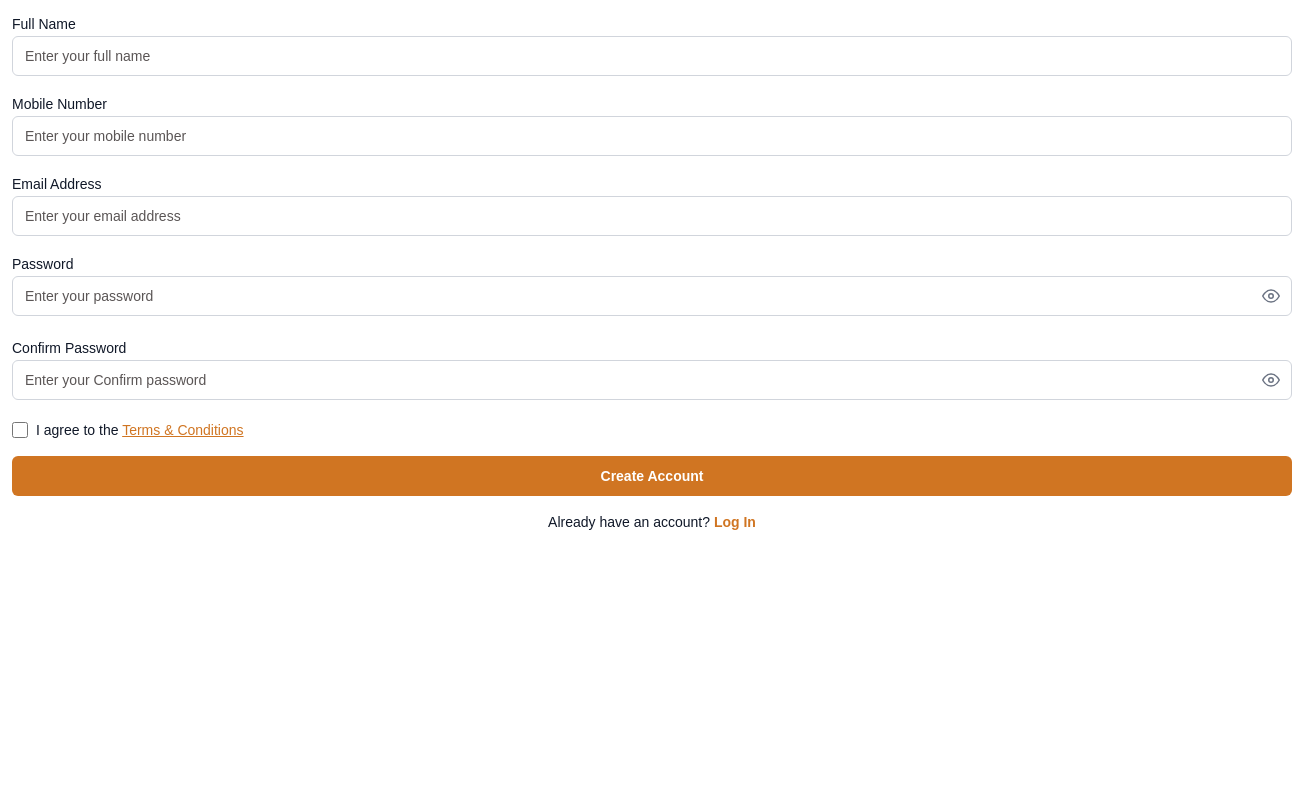
RegisterForm › shows backend error message
Type "Test User" into the field with placeholder "Enter your full name" at x=652, y=56, box [12,36,1292,76]
Type "9812345678" into the field with placeholder "Enter your mobile number" at x=652, y=136, box [12,116,1292,156]
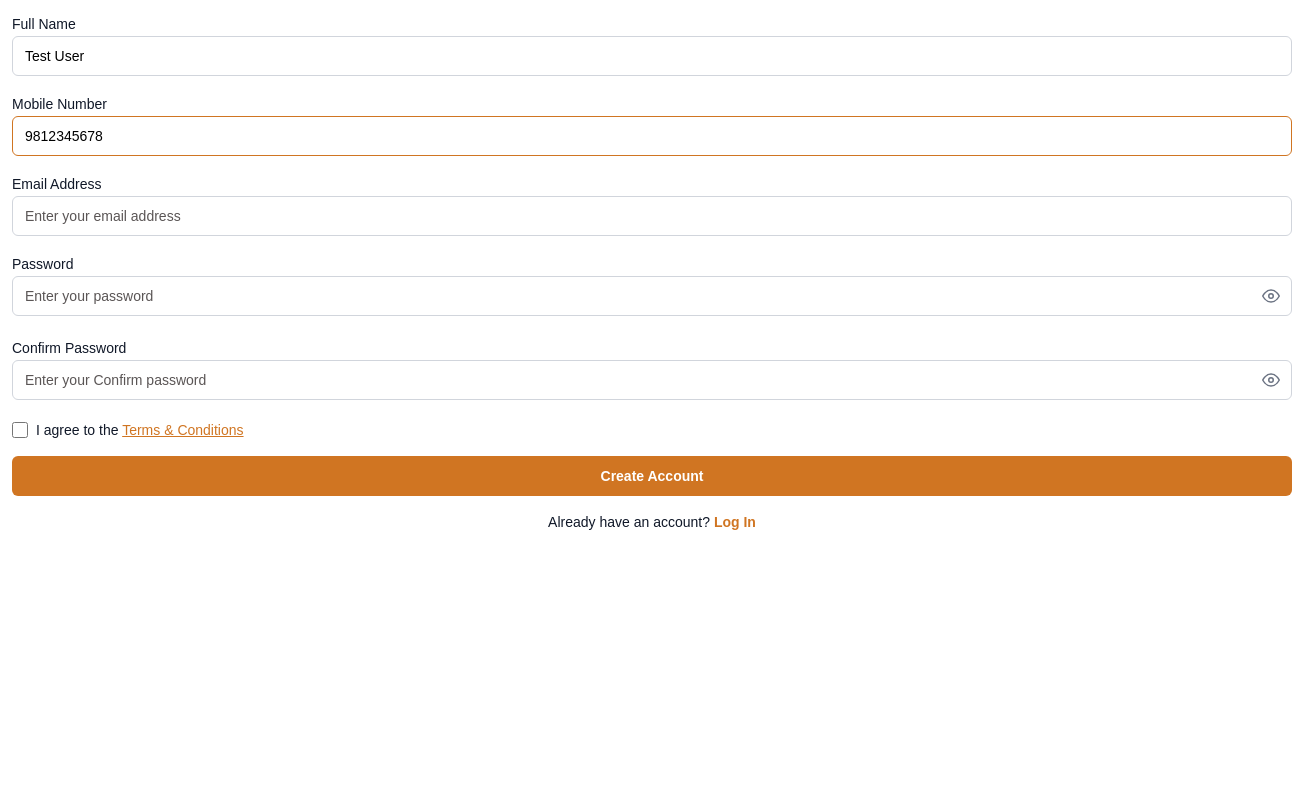
Type "test@example.com" into the field with placeholder "Enter your email address" at x=652, y=216, box [12,196,1292,236]
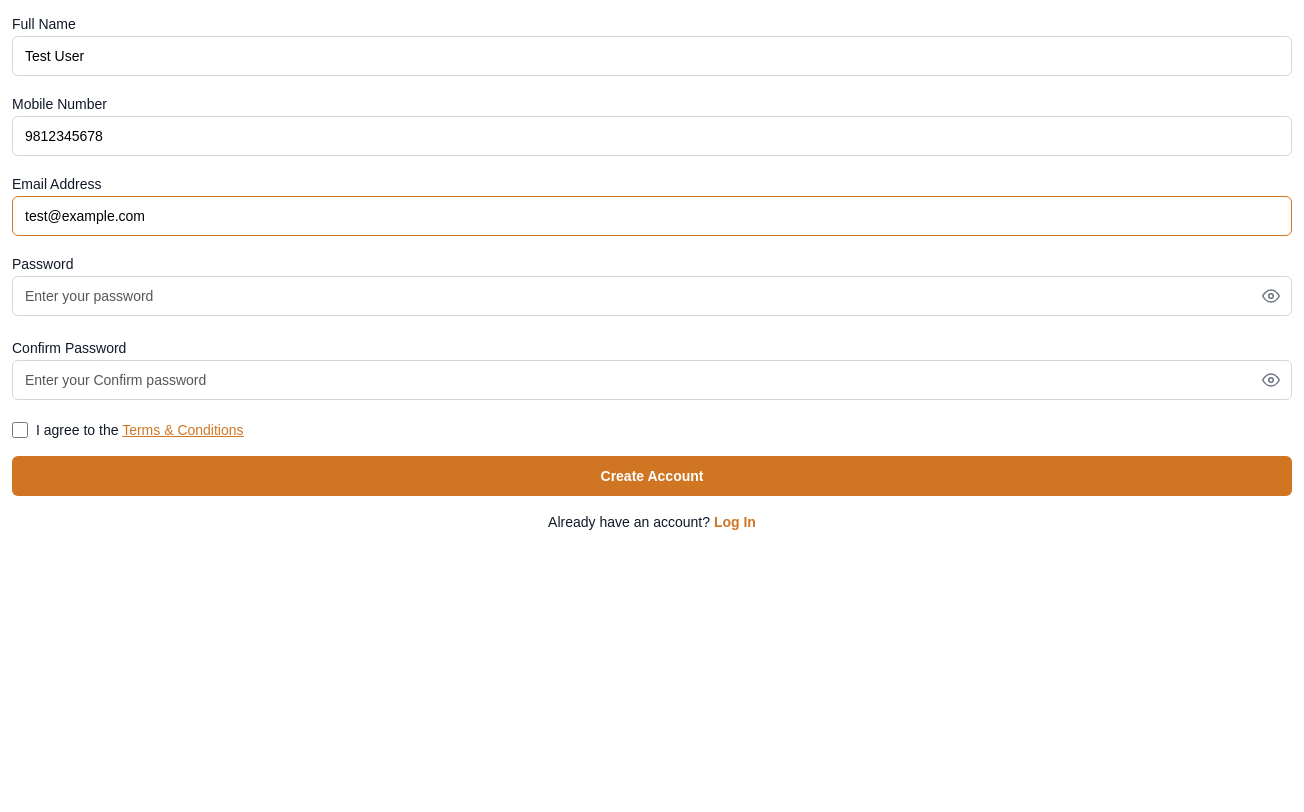
Type "secret1" into the password field with placeholder "Enter your password" at x=652, y=296, box [12,276,1292,316]
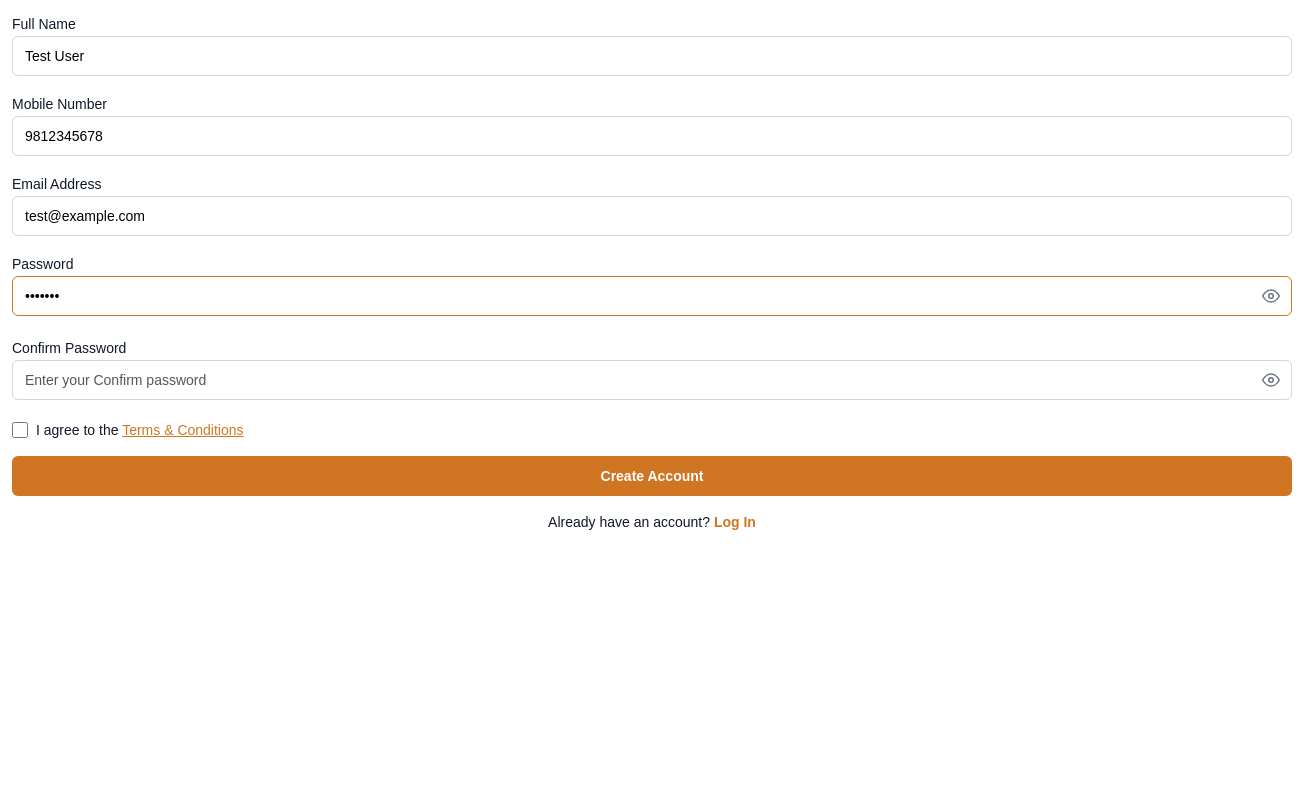
Type "secret1" into the password field with placeholder "Enter your Confirm password" at x=652, y=380, box [12,360,1292,400]
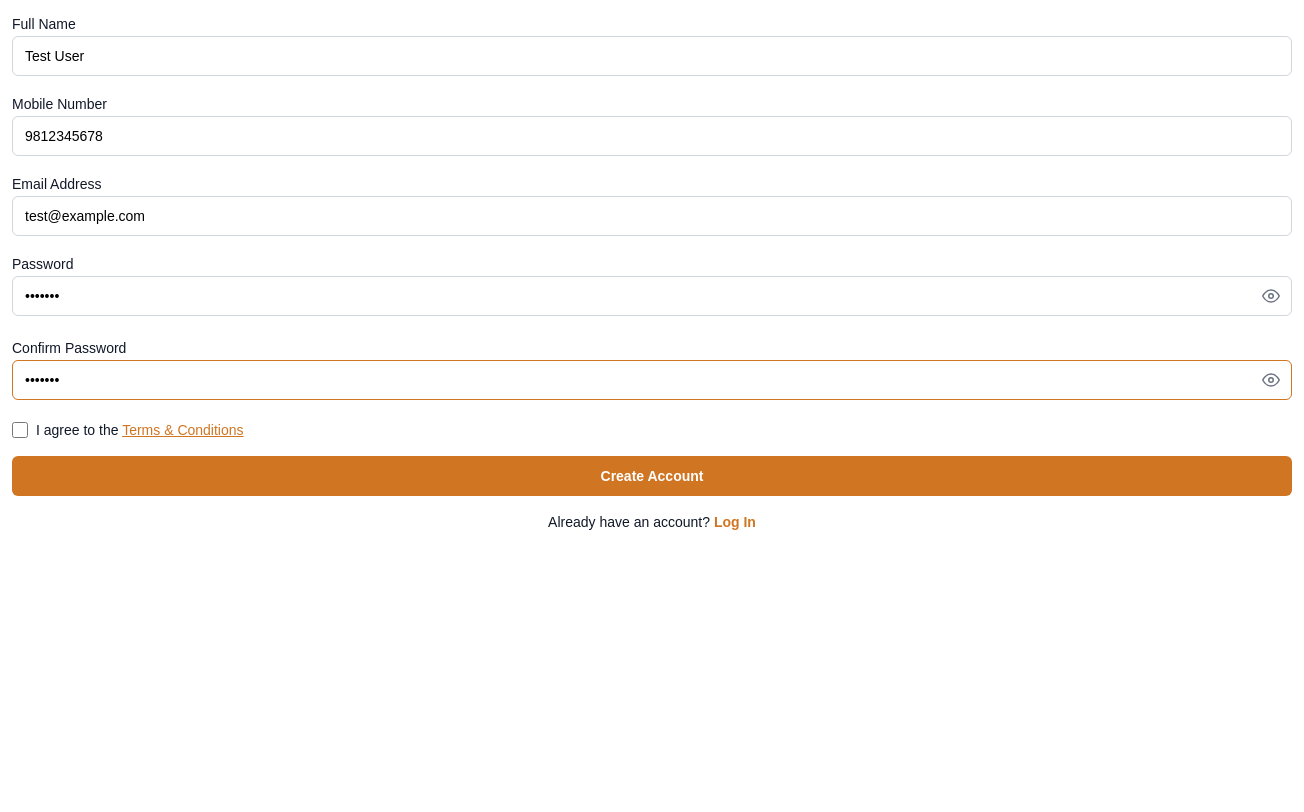
Click the checkbox labelled "I agree to the Terms & Conditions" at x=20, y=430, box [12,422,28,438]
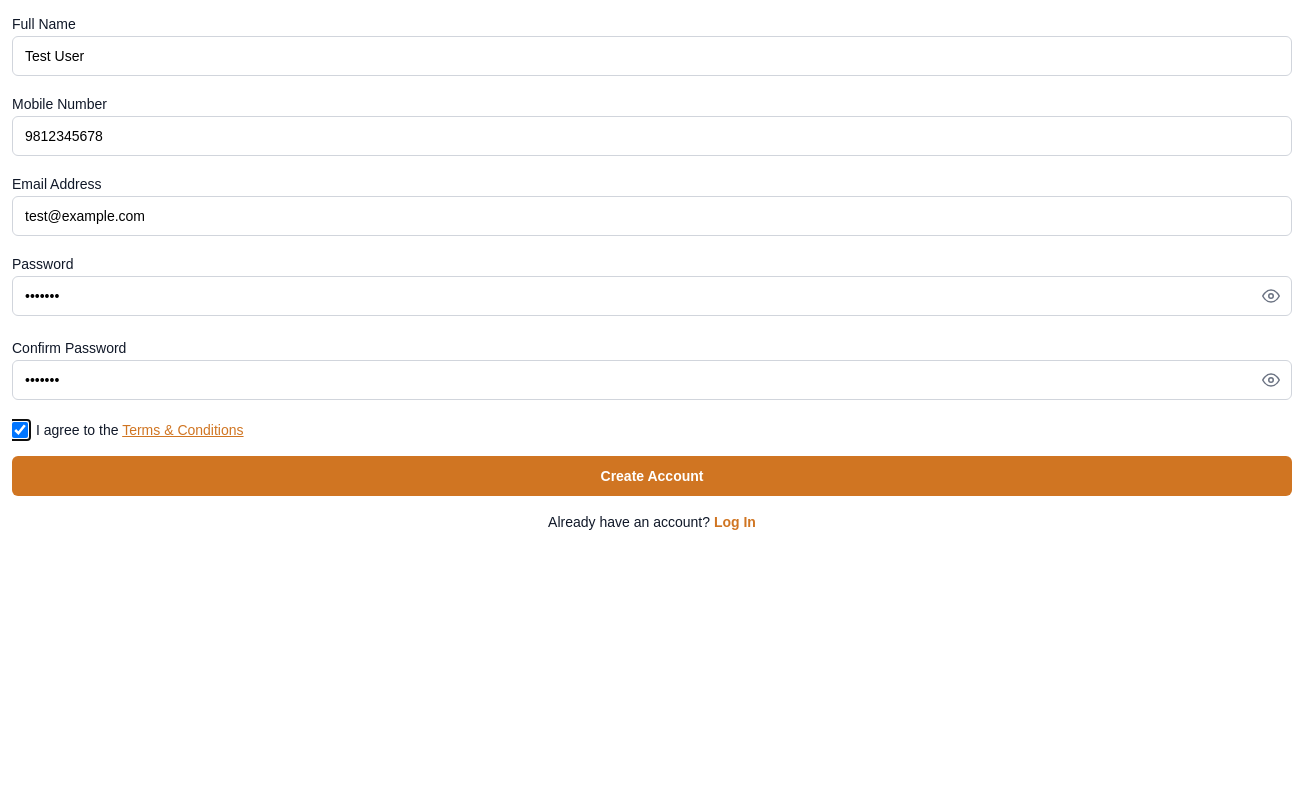
Click the button "Create Account" at x=652, y=476, box [12,456,1292,496]
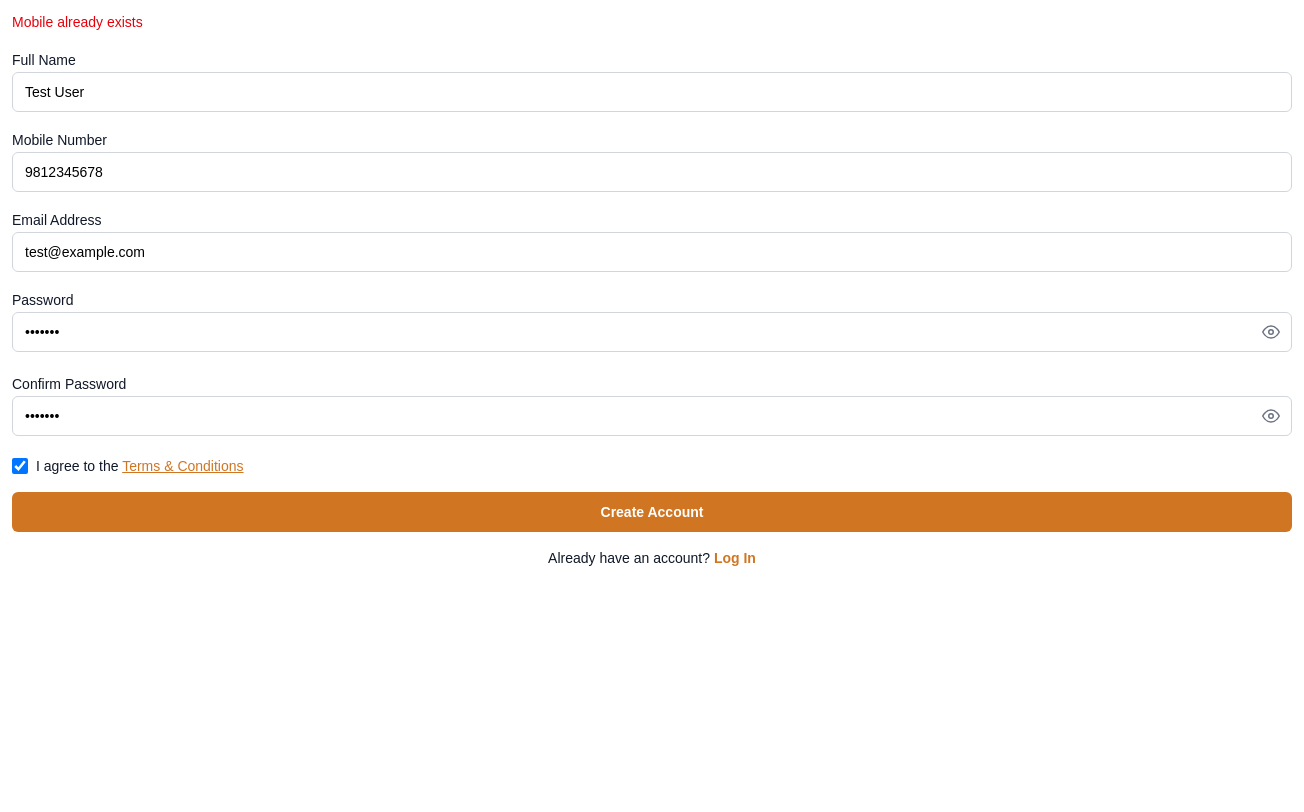
expect the text "Mobile already exists" is shown: met, box [12,14,143,30]
